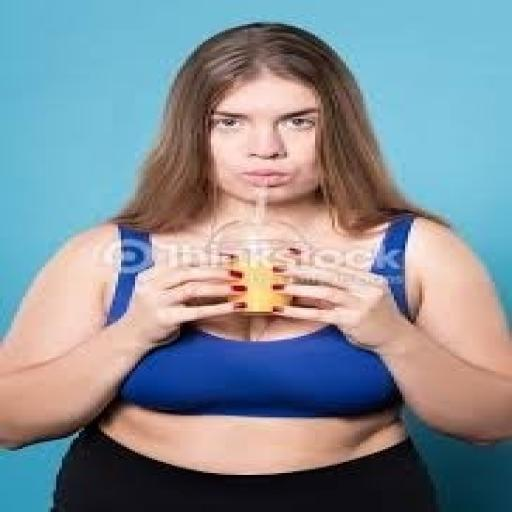drinking: (200, 188, 309, 316)
